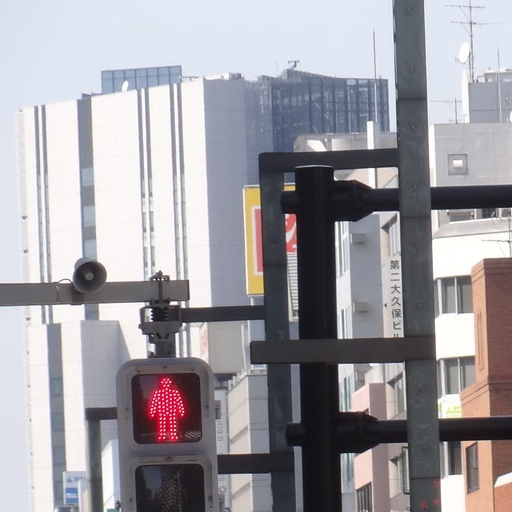Pedestrian_Signal_Red: (116, 344, 217, 505)
